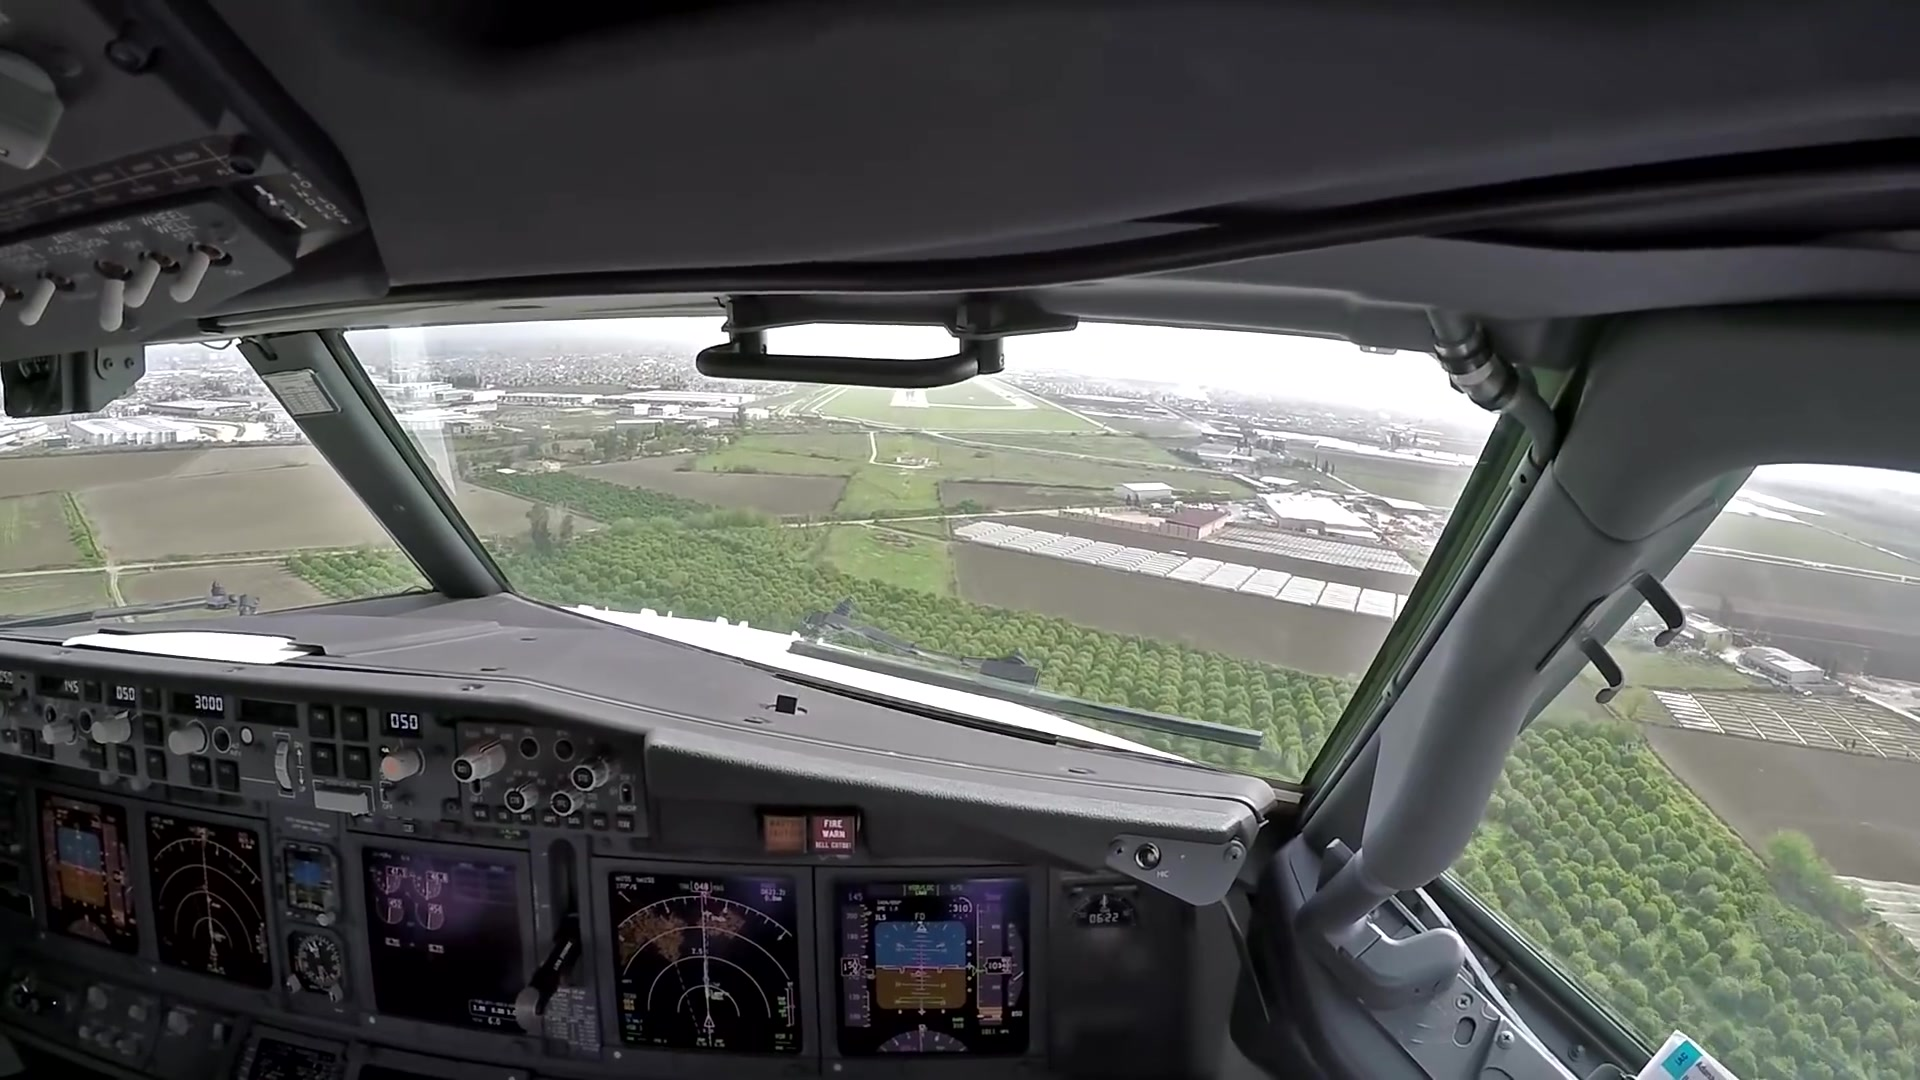runway: (886, 357, 931, 407)
